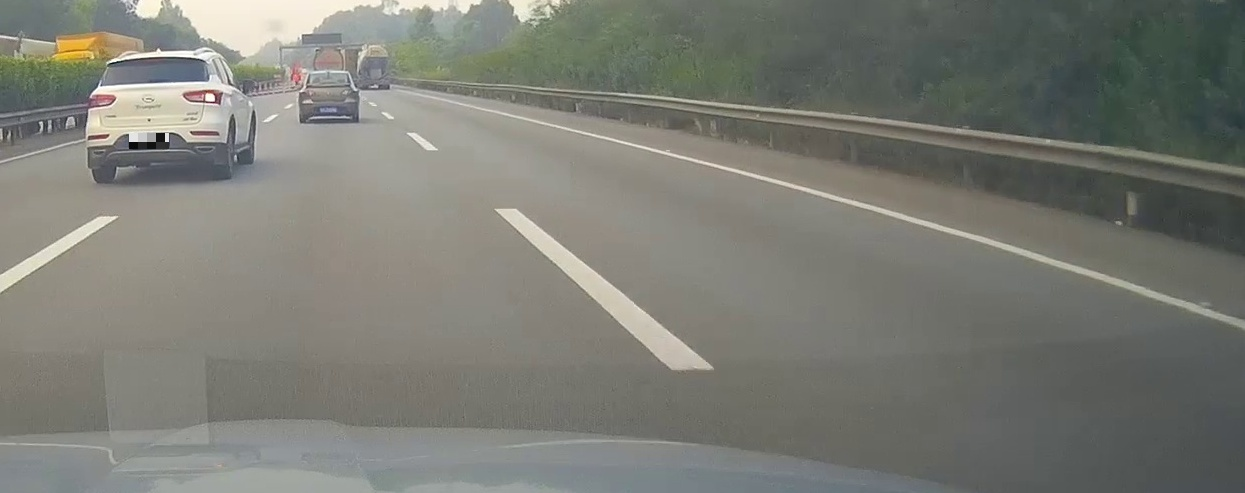L_light: (88, 93, 117, 109), (300, 92, 312, 104)
R_light: (183, 89, 223, 105), (345, 90, 359, 103)
T_light: (142, 57, 163, 60), (324, 72, 332, 75)
day-no: (298, 70, 360, 124)
day-right: (84, 52, 230, 181)
plate_1: (129, 133, 169, 149)
